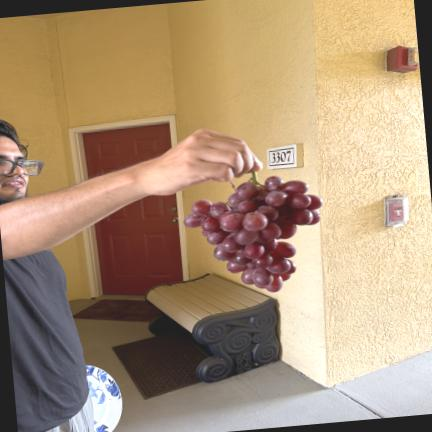grape_cluster: (184, 172, 323, 292)
